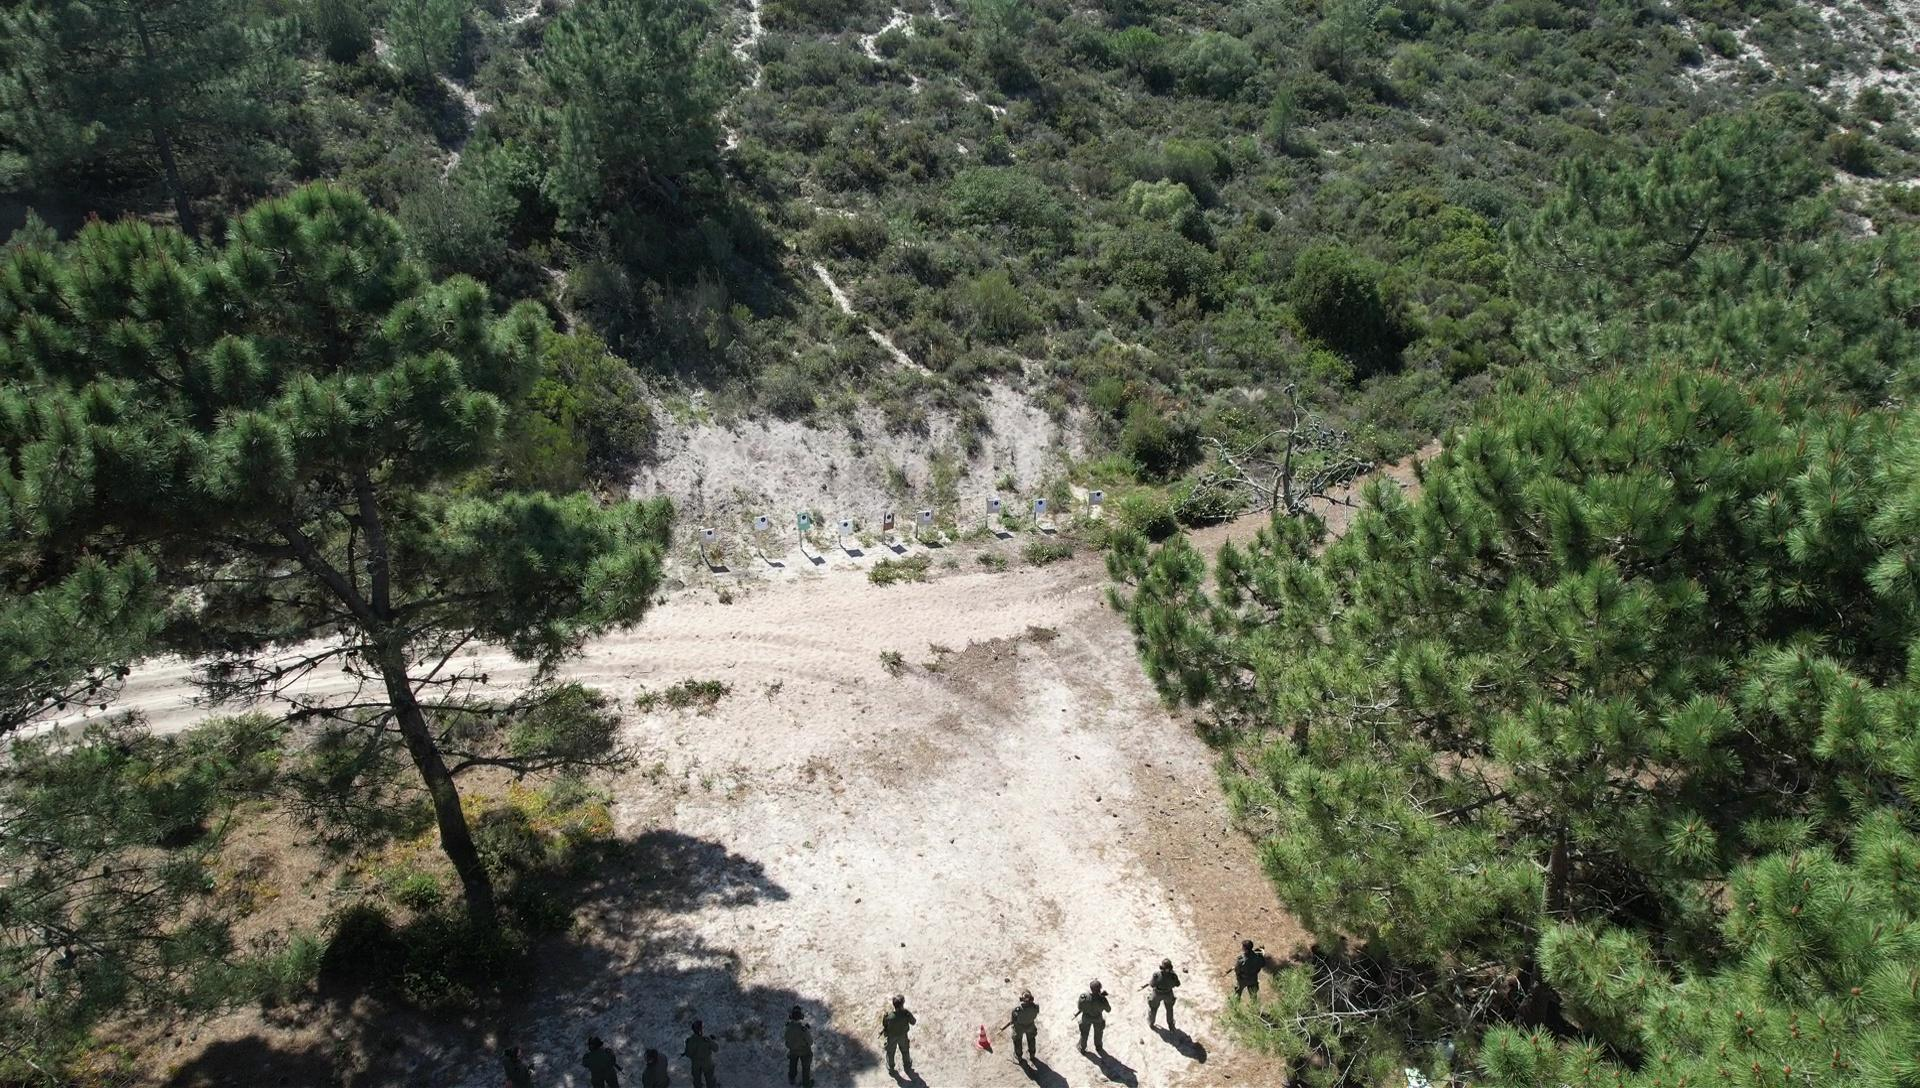Soldier: (770, 992, 824, 1085), (1135, 953, 1189, 1041), (678, 1014, 738, 1088), (1065, 981, 1113, 1070), (994, 986, 1044, 1070), (873, 992, 923, 1075), (1222, 931, 1276, 1004), (495, 1035, 541, 1088), (585, 1033, 626, 1088), (633, 1039, 674, 1087)
